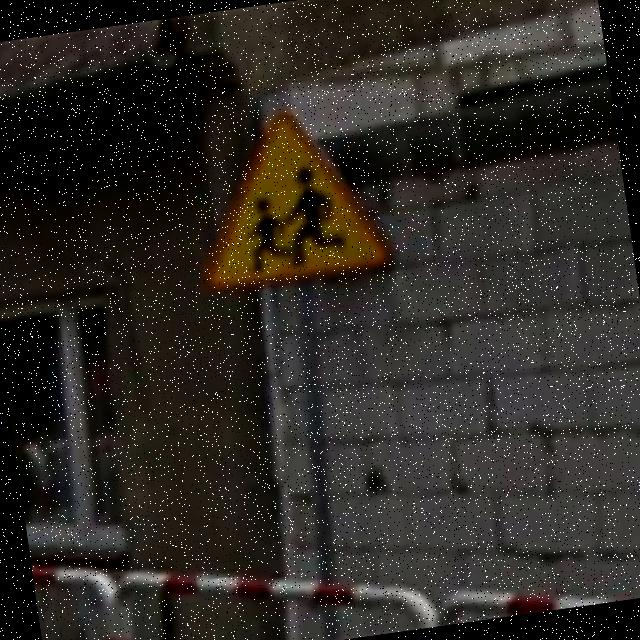Dzieci: (178, 98, 396, 298)
